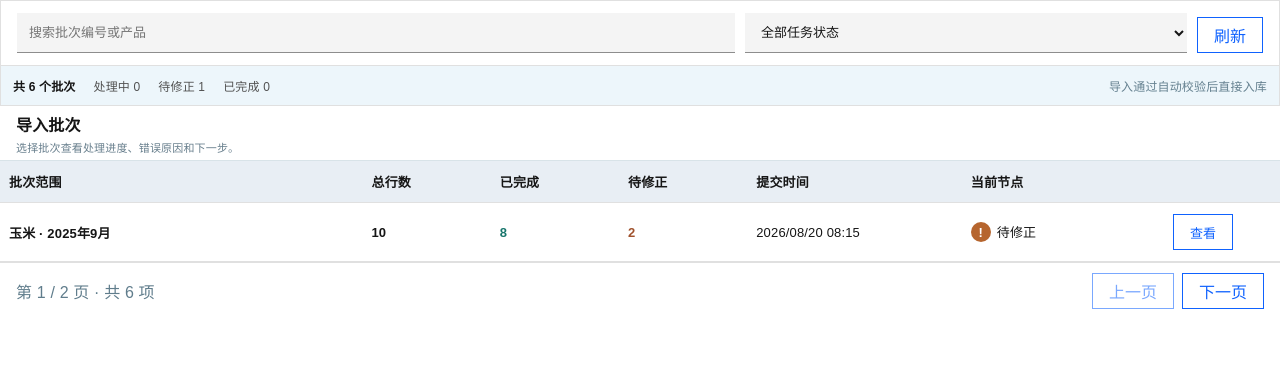
Test: business import history › paginates through backend history and keeps a failed refresh recoverable
The image size is (1280, 388).
Check: the text "第 1 / 2 页 · 共 6 项" is shown, box [16,279,155,303]
Step 1. Click the button with aria-label "导入任务下一页" → (1223, 291), box [1182,273,1264,309]
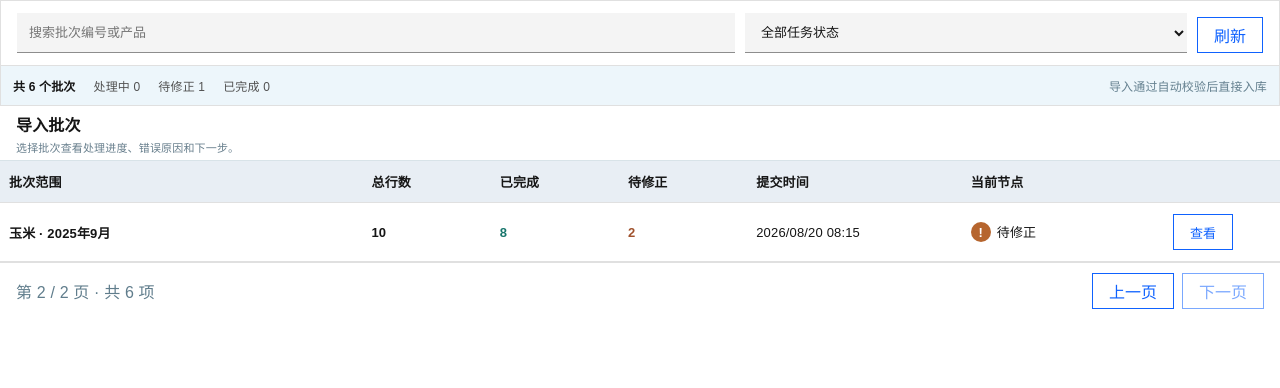
Check: the text "第 2 / 2 页 · 共 6 项" is shown, box [16,279,155,303]
Step 2. Click the button with aria-label "刷新导入任务记录" → (1230, 35), box [1197,17,1263,53]
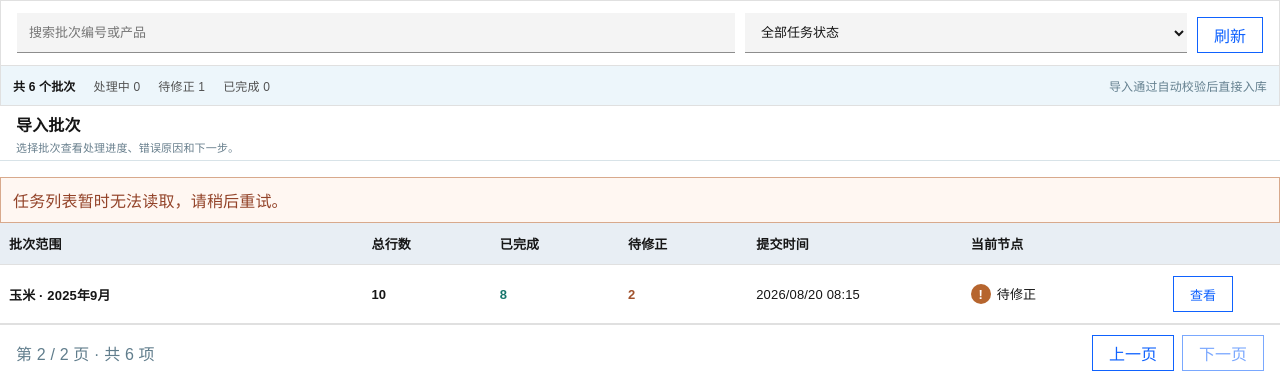
Check: the message "任务列表暂时无法读取，请稍后重试。" is shown, box [0,177,1279,223]
